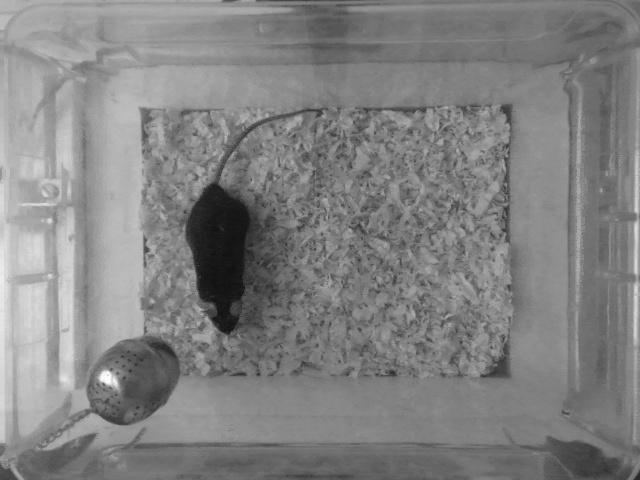mice: (185, 106, 326, 336)
